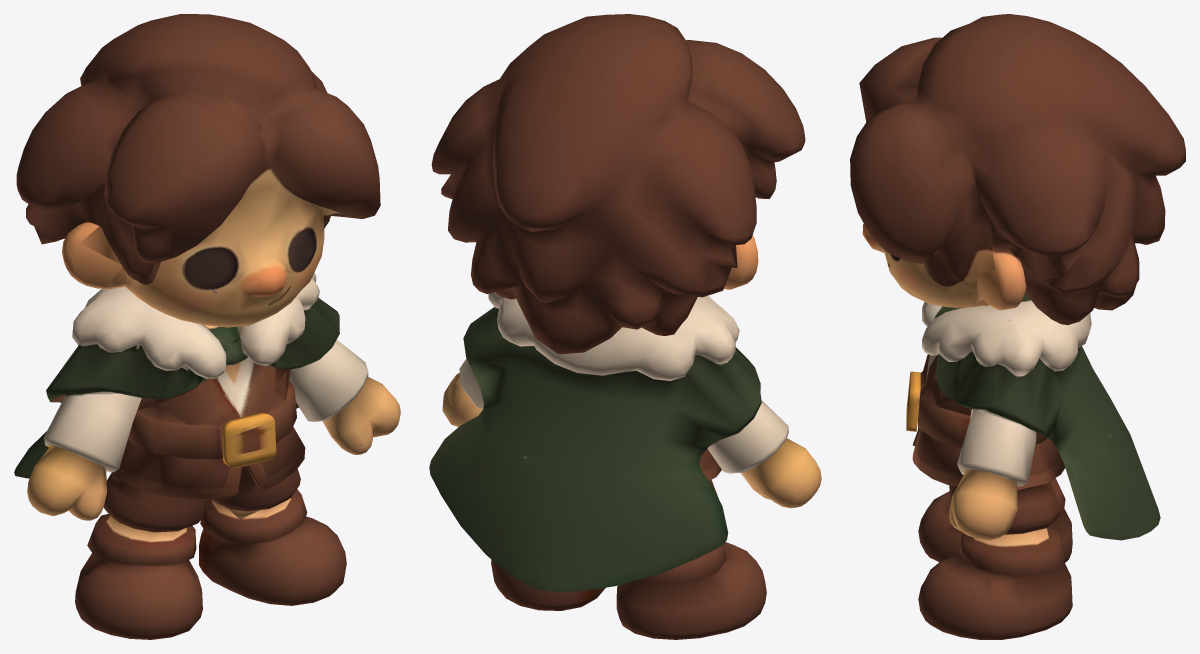
File: human_common_tripo_segmented_packuv.glb
The picture shows the model from 3 angles, left to right: view 1: azimuth 30°, elevation 25°; view 2: azimuth 150°, elevation 25°; view 3: azimuth 270°, elevation 25°; orthographic projection. The views are drawn at different scales.
Parts seen in each view (by area): view 1: tripo_part_0, tripo_part_1, tripo_part_3, tripo_part_2, tripo_part_4, tripo_part_5, tripo_part_8, tripo_part_13, tripo_part_12, tripo_part_7, tripo_part_6, tripo_part_9 (+1 smaller); view 2: tripo_part_0, tripo_part_1, tripo_part_3, tripo_part_4, tripo_part_2, tripo_part_5, tripo_part_9; view 3: tripo_part_0, tripo_part_1, tripo_part_2, tripo_part_5, tripo_part_8, tripo_part_3, tripo_part_10, tripo_part_11, tripo_part_12, tripo_part_6.
Part boxes in pixels (x1=…): tripo_part_0: x1=16, y1=14, x2=380, y2=327; tripo_part_1: x1=14, y1=273, x2=339, y2=478; tripo_part_3: x1=75, y1=514, x2=202, y2=639; tripo_part_2: x1=199, y1=489, x2=346, y2=605; tripo_part_4: x1=27, y1=393, x2=156, y2=520; tripo_part_5: x1=289, y1=340, x2=400, y2=454; tripo_part_8: x1=111, y1=427, x2=305, y2=499; tripo_part_13: x1=157, y1=338, x2=275, y2=428; tripo_part_12: x1=128, y1=380, x2=296, y2=459; tripo_part_7: x1=103, y1=473, x2=207, y2=532; tripo_part_6: x1=221, y1=412, x2=276, y2=468; tripo_part_9: x1=62, y1=221, x2=123, y2=289; tripo_part_0: x1=431, y1=14, x2=805, y2=354; tripo_part_1: x1=429, y1=292, x2=761, y2=592; tripo_part_3: x1=616, y1=542, x2=766, y2=639; tripo_part_4: x1=707, y1=400, x2=821, y2=508; tripo_part_2: x1=491, y1=560, x2=605, y2=610; tripo_part_5: x1=442, y1=358, x2=483, y2=426; tripo_part_9: x1=724, y1=235, x2=758, y2=289; tripo_part_0: x1=850, y1=14, x2=1185, y2=325; tripo_part_1: x1=922, y1=293, x2=1160, y2=540; tripo_part_2: x1=918, y1=526, x2=1072, y2=639; tripo_part_5: x1=949, y1=409, x2=1036, y2=540; tripo_part_8: x1=912, y1=428, x2=1065, y2=489; tripo_part_3: x1=918, y1=478, x2=1072, y2=562; tripo_part_10: x1=977, y1=247, x2=1026, y2=310; tripo_part_11: x1=949, y1=481, x2=1060, y2=534; tripo_part_12: x1=917, y1=382, x2=1047, y2=448; tripo_part_6: x1=906, y1=371, x2=920, y2=431.
Bounding box in the file's own units: 0.6743 × 0.9995 × 0.5503.
Materials: 1 (1 with a texture image).
